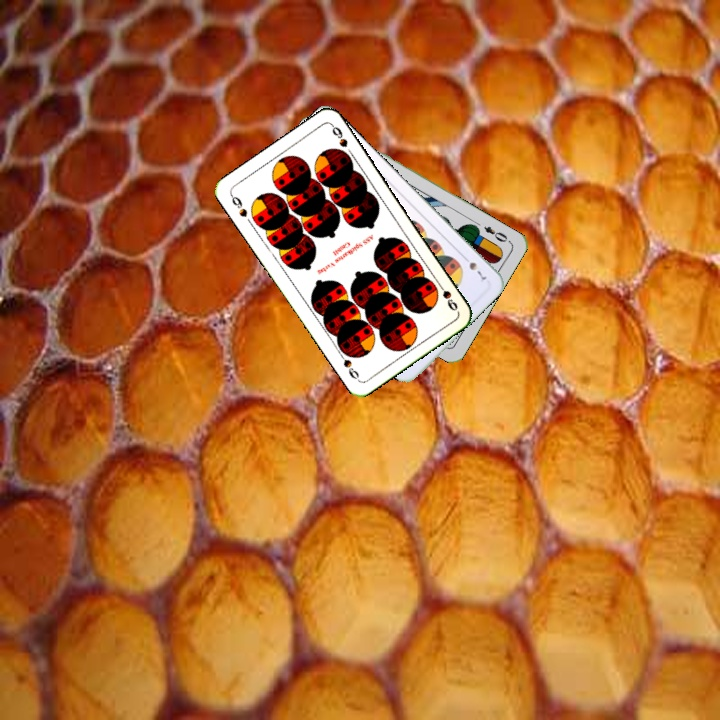EO: (479, 222, 510, 245)
S7: (458, 251, 489, 283)
S9: (433, 277, 460, 314), (226, 190, 250, 220)
